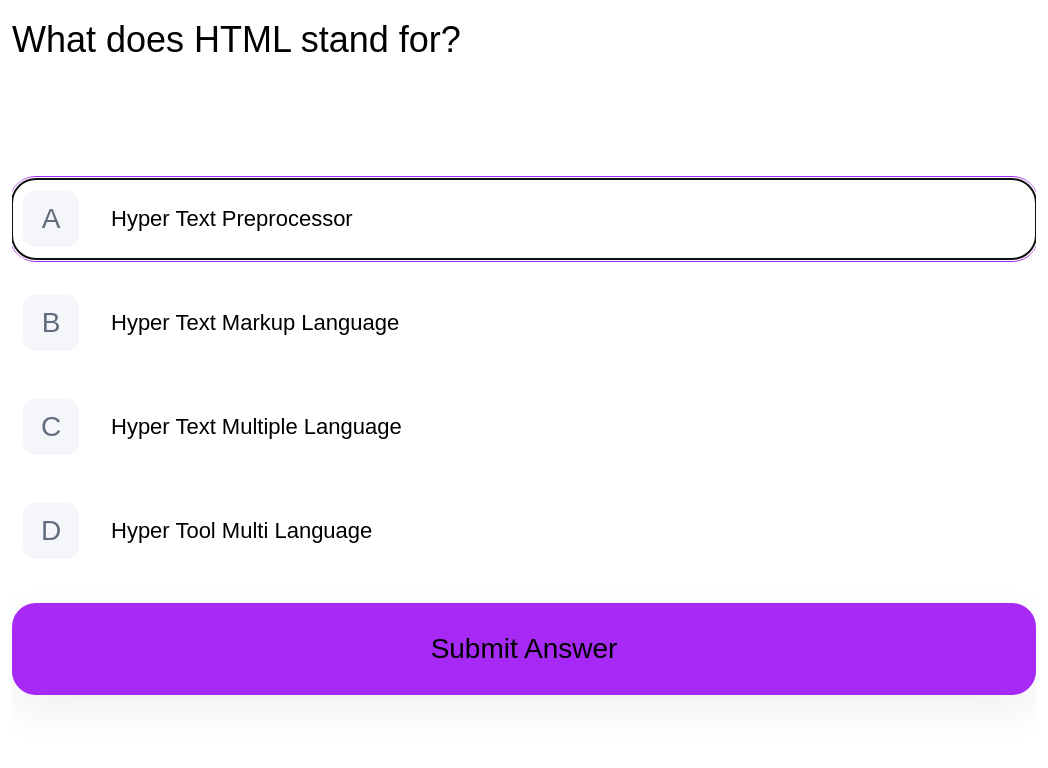
Scenario: should not display "next question" button if no initial choice is selected
(page scrolled)
Click the button "Submit Answer": (524, 649) top-left (12, 603), bottom-right (1036, 695)
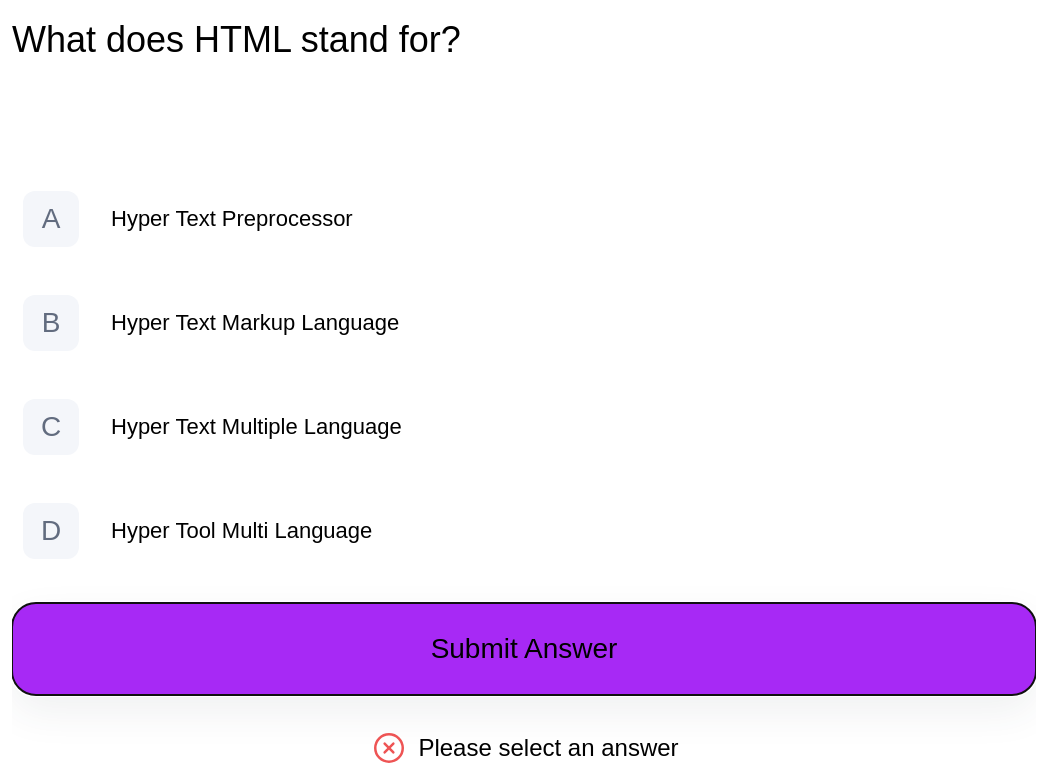
Now the text "Please select an answer" is shown, box top-left (369, 728), bottom-right (679, 767)
